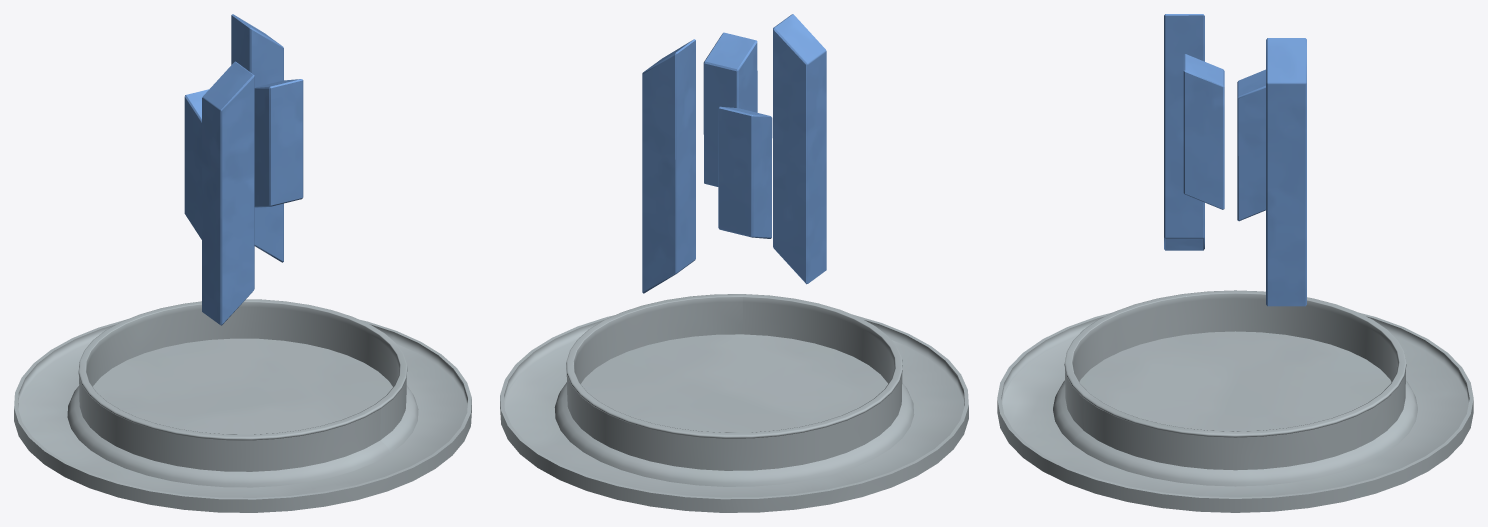
The model's file is Fountain.fbx.
3 views of the same model, side by side, from view 1: azimuth 30°, elevation 25°; view 2: azimuth 150°, elevation 25°; view 3: azimuth 270°, elevation 25° (orthographic). The views are drawn at different scales.
Visible parts, largest first — view 1: S_Fountain; view 2: S_Fountain; view 3: S_Fountain.
Boxes of the visible parts, x1,y1,x2,y2 form: S_Fountain: (14,14,471,512); S_Fountain: (500,14,968,512); S_Fountain: (997,14,1473,512).
Size of the model in its own units: 1162 by 1040 by 1162.
